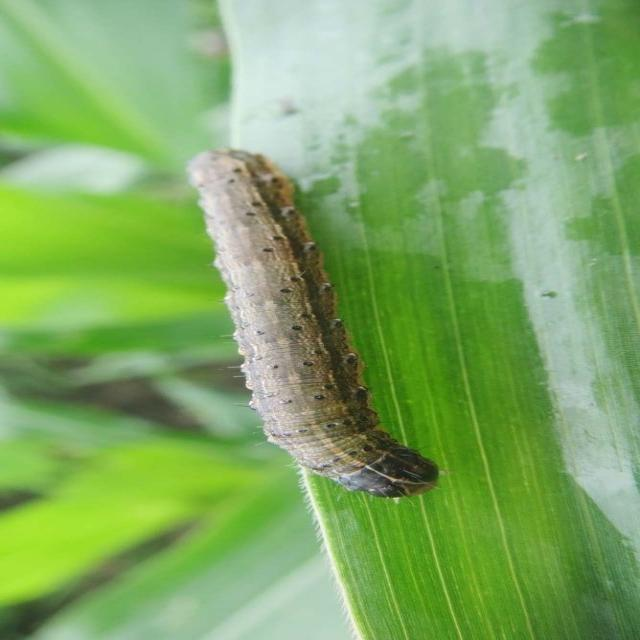worm: (157, 148, 461, 519)
